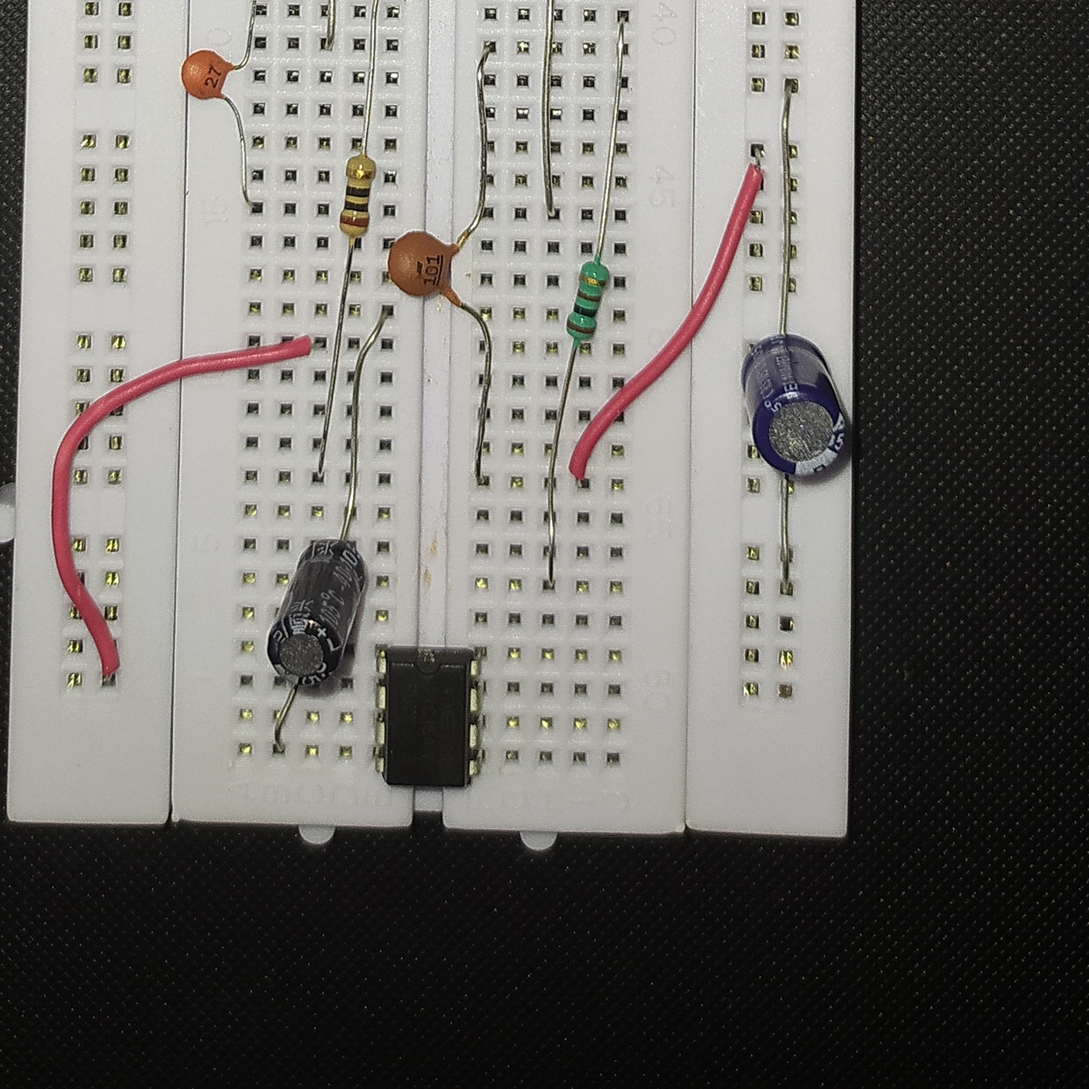capacitor: (738, 335, 848, 479), (268, 539, 365, 686), (386, 233, 462, 303), (182, 49, 234, 105)
resistor: (566, 262, 610, 348), (339, 151, 376, 241)
